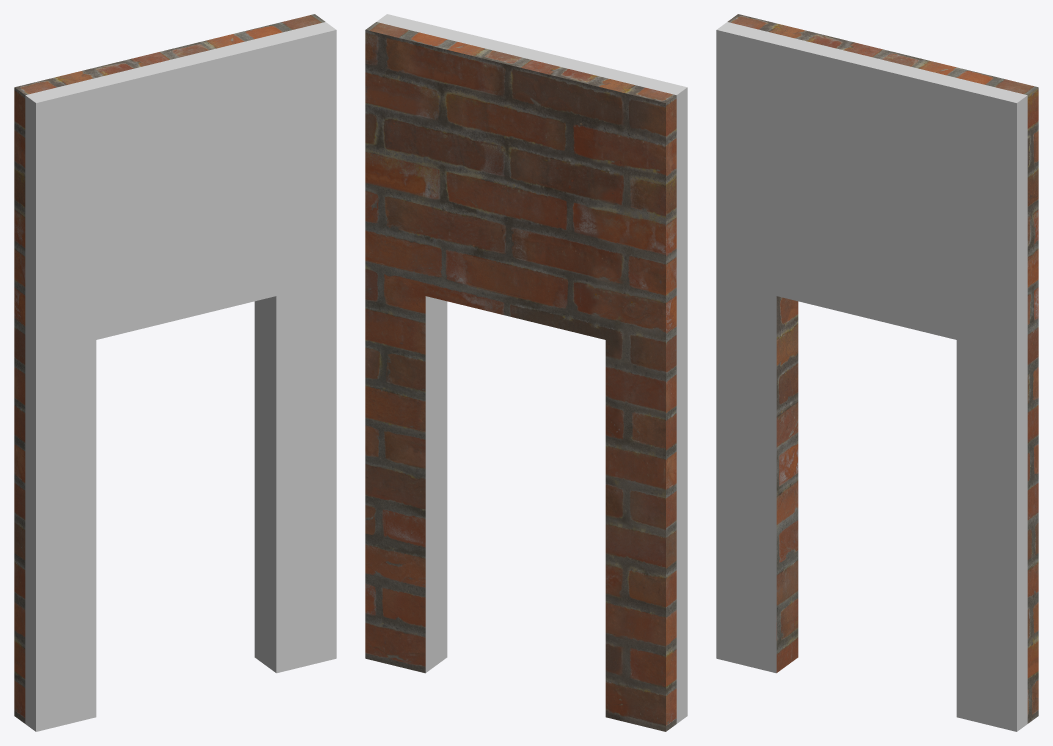
Rendered from Wall_door_hole_complete.fbx.
3 renders of one model, left to right at view 1: azimuth 30°, elevation 25°; view 2: azimuth 150°, elevation 25°; view 3: azimuth 330°, elevation 25°, orthographic.
Parts seen in each view (by area): view 1: Wall door hole; view 2: Wall door hole; view 3: Wall door hole.
Boxes of the visible parts, x1=… form: Wall door hole: x1=14, y1=14, x2=336, y2=731; Wall door hole: x1=365, y1=14, x2=687, y2=731; Wall door hole: x1=716, y1=14, x2=1038, y2=731.
Bounding box in the file's own units: 400 × 800 × 50.
